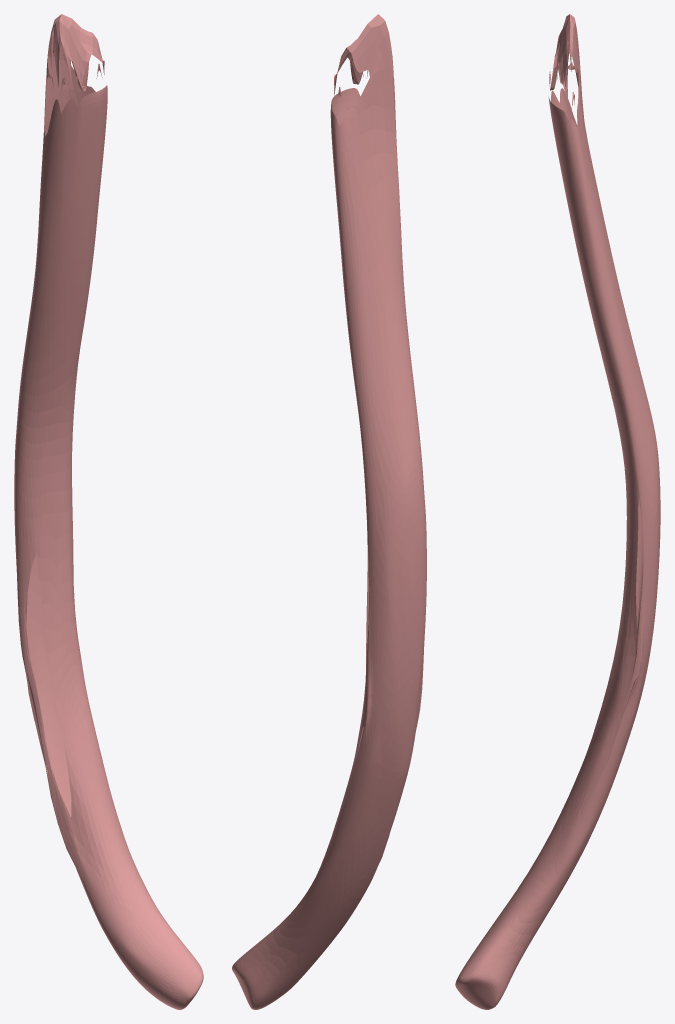
The model's file is esofago.glb.
The picture shows the model from 3 angles, left to right: view 1: azimuth 30°, elevation 25°; view 2: azimuth 210°, elevation 25°; view 3: azimuth 270°, elevation 25°; orthographic projection. The views are drawn at different scales.
Parts seen in each view (by area): view 1: esophagus; view 2: esophagus; view 3: esophagus.
Boxes of the visible parts, bbox=[...] form: esophagus: bbox=[14, 14, 203, 1009]; esophagus: bbox=[232, 14, 426, 1009]; esophagus: bbox=[455, 14, 660, 1009].
Size of the model in its own units: 32.83 by 297 by 57.43.
